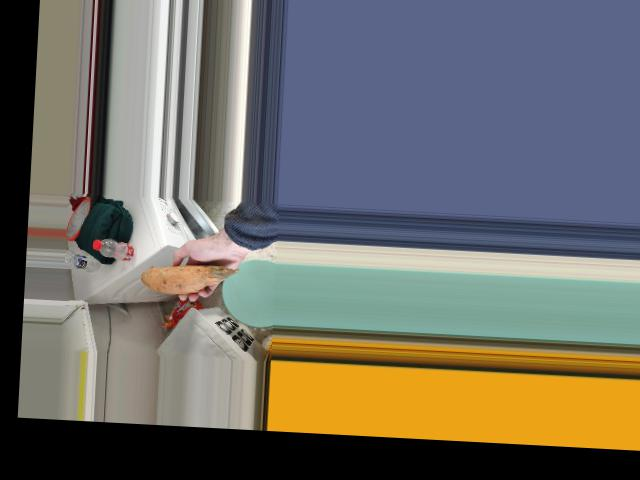sweet_potato: (149, 259, 228, 297)
